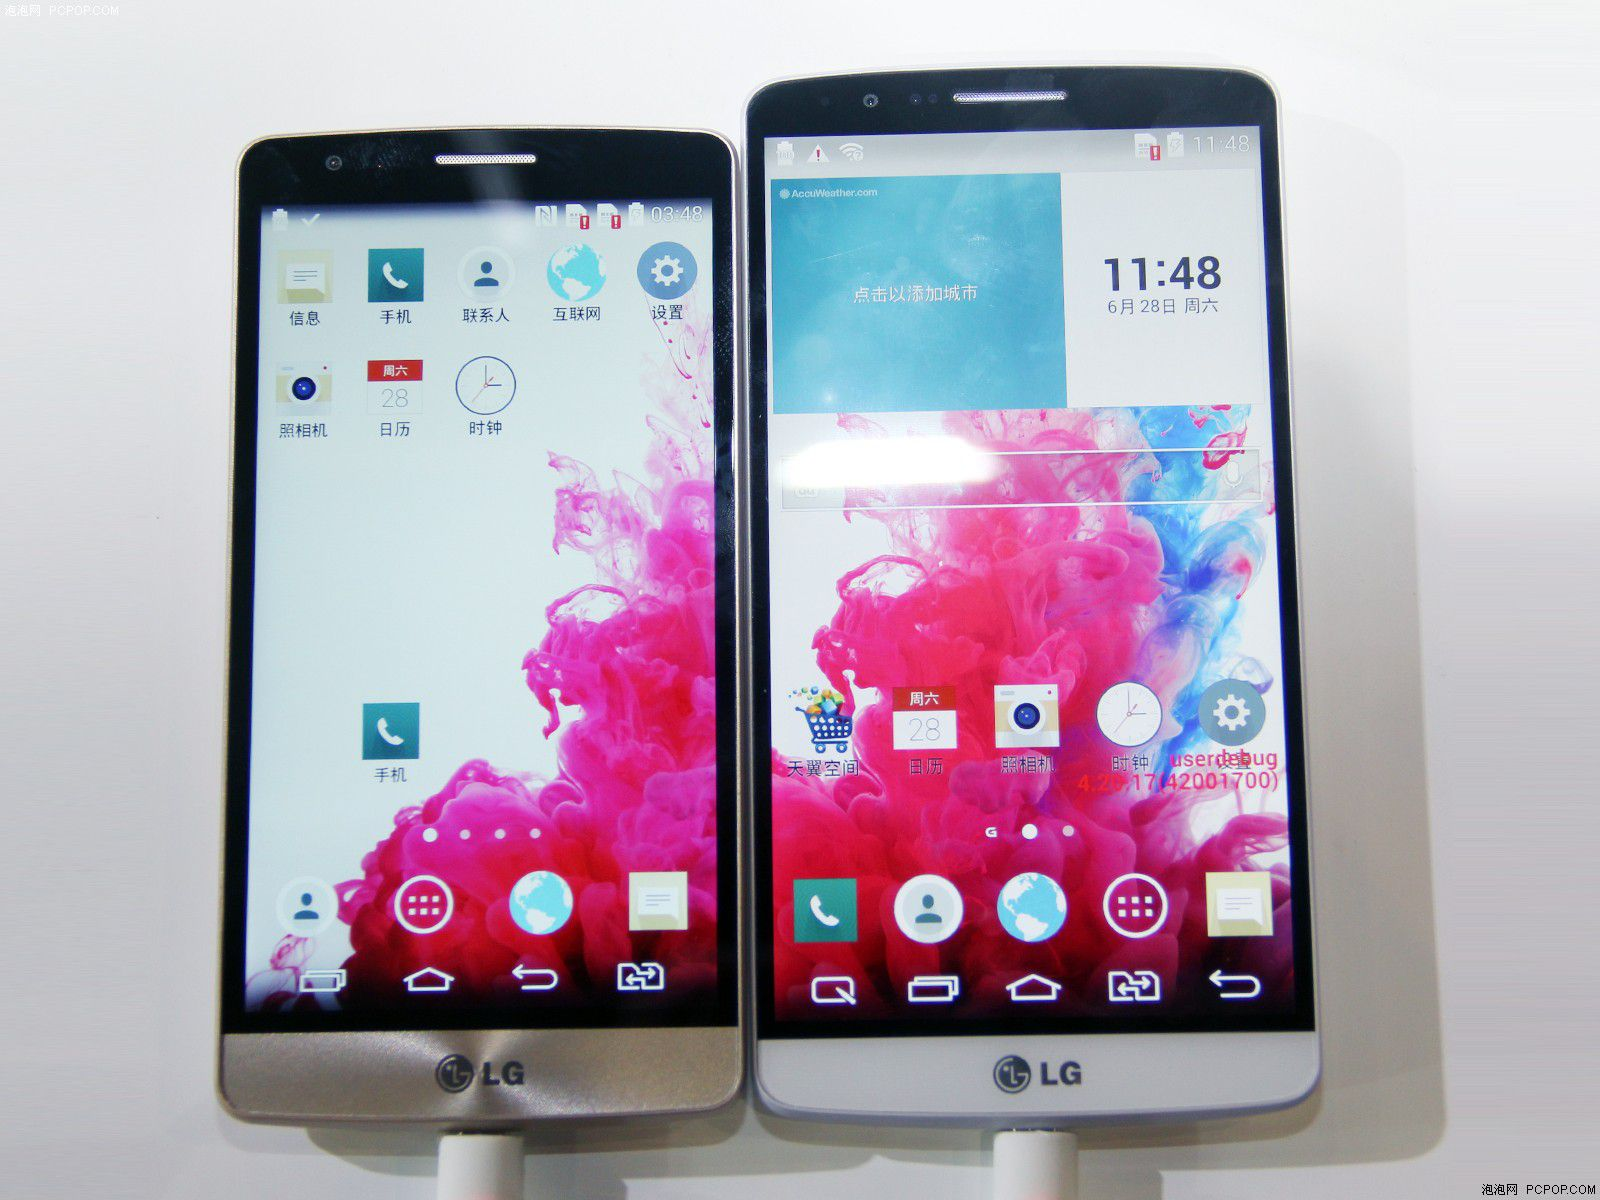smartphone: (741, 64, 1324, 1123), (215, 127, 745, 1124)
